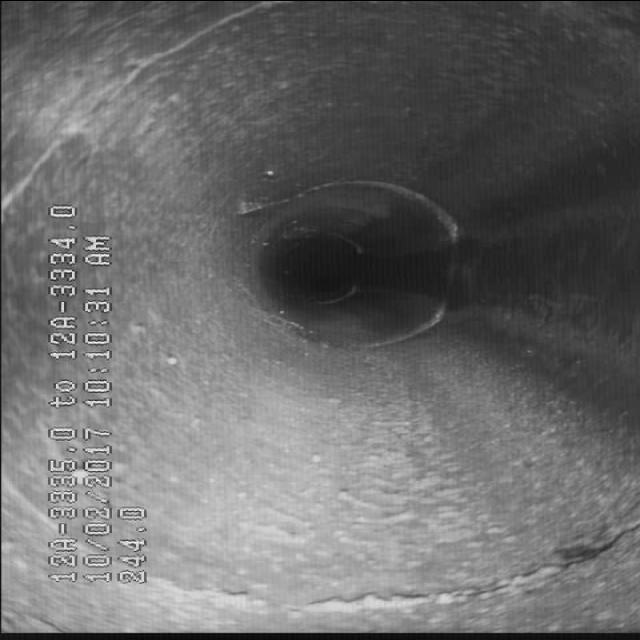Crack: (185, 523, 589, 628)
